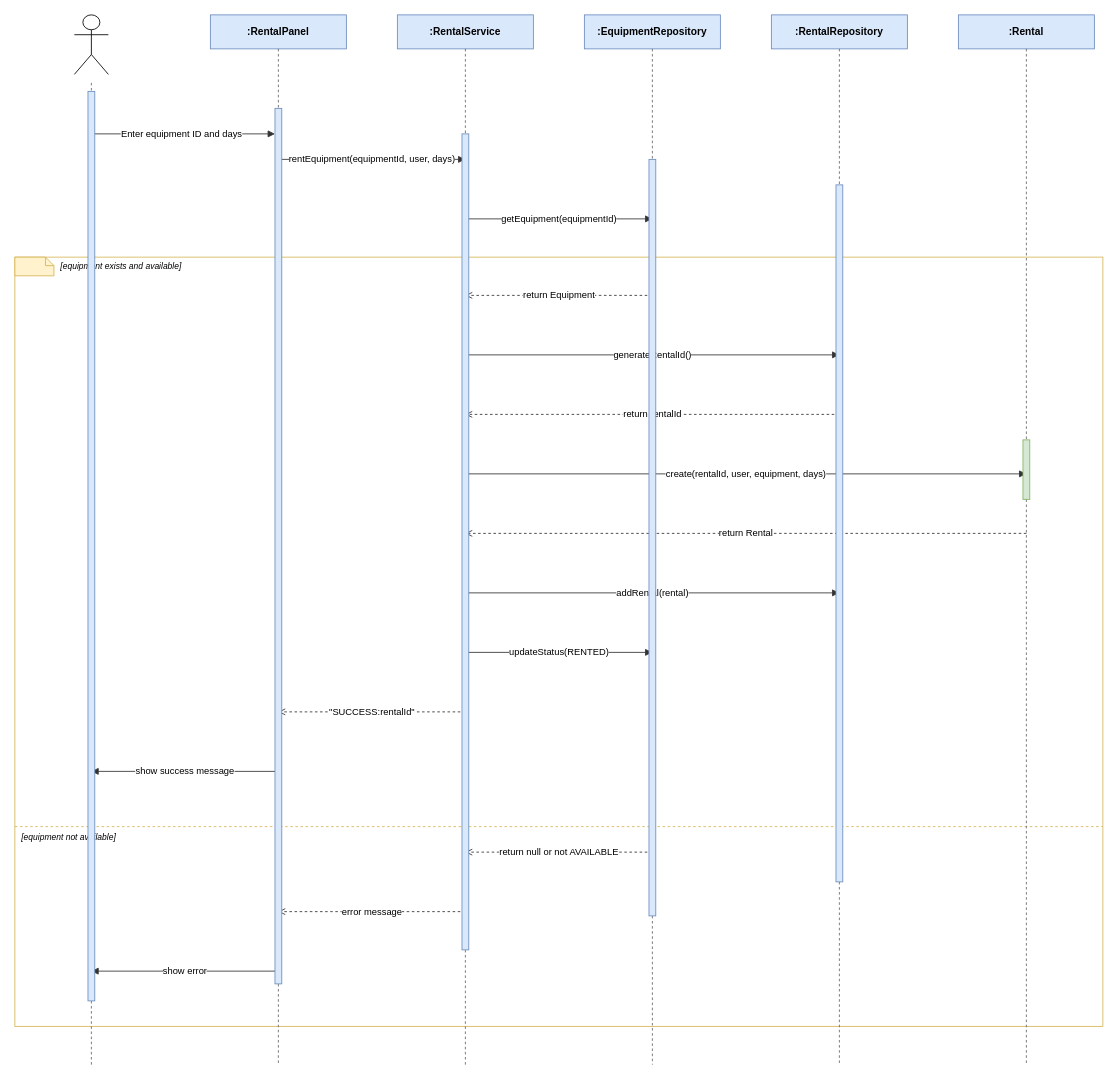
The diagram is 1119 pixels wide and 1080 high, and some of its shapes have lost their labels. The box of each missing label's shape, as (x1, y1, x2, y2) in pixels:
alt: (14, 256, 54, 276)
Student: (74, 14, 108, 74)
